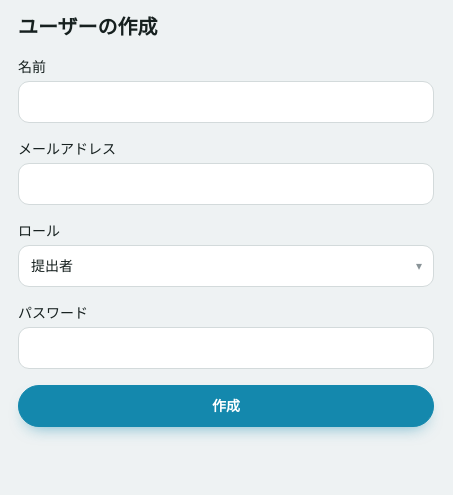
Test case: UserCreateForm › rejects an invalid email and a short password
This screenshot has width=453, height=495.
Type "X" into the field labelled "名前". click: (226, 102)
box: [18,81,434,123]
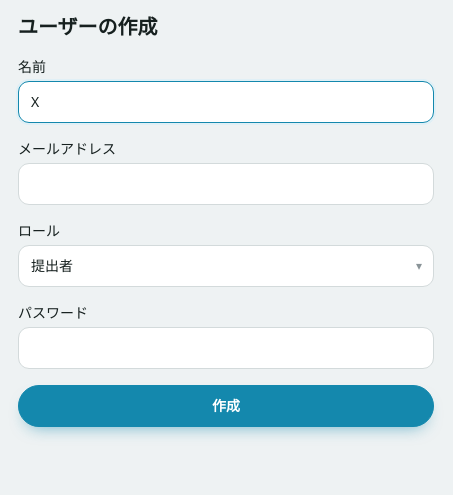
Type "not-an-email" into the field labelled "メールアドレス". click: (226, 184)
box: [18,163,434,205]
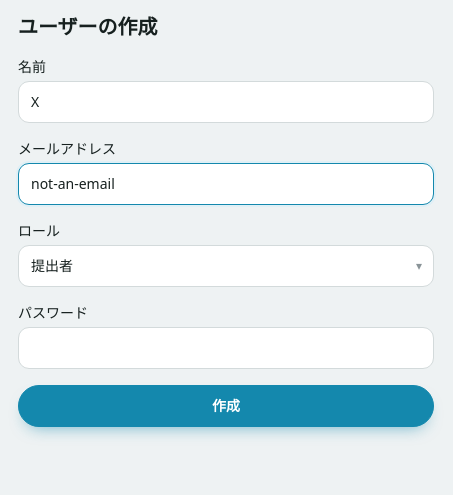
Type "short" into the password field labelled "パスワード". click: (226, 348)
box: [18,327,434,369]
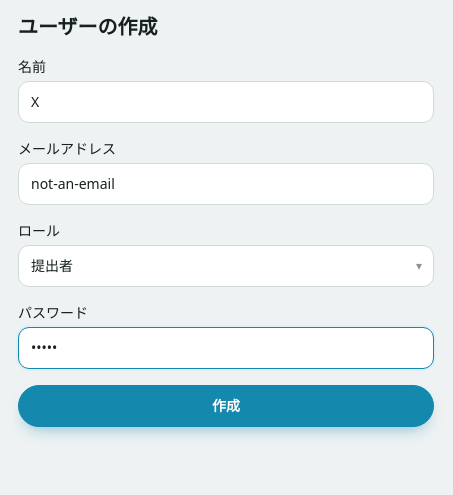
Click the button "作成". click: (226, 406)
box: [18,385,434,427]
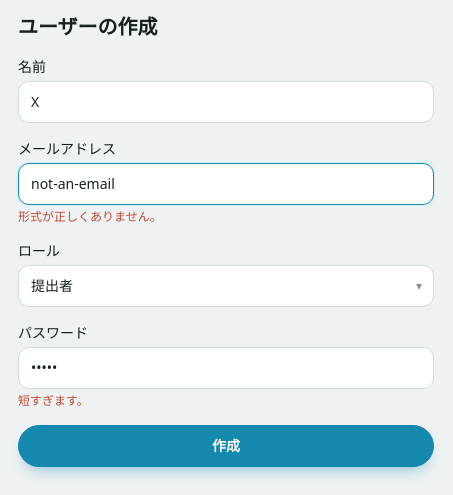
Expected: the text "形式が正しくありません。" is shown, [18,208,162,225]
Expected: the text "短すぎます。" is shown, [18,392,89,409]
